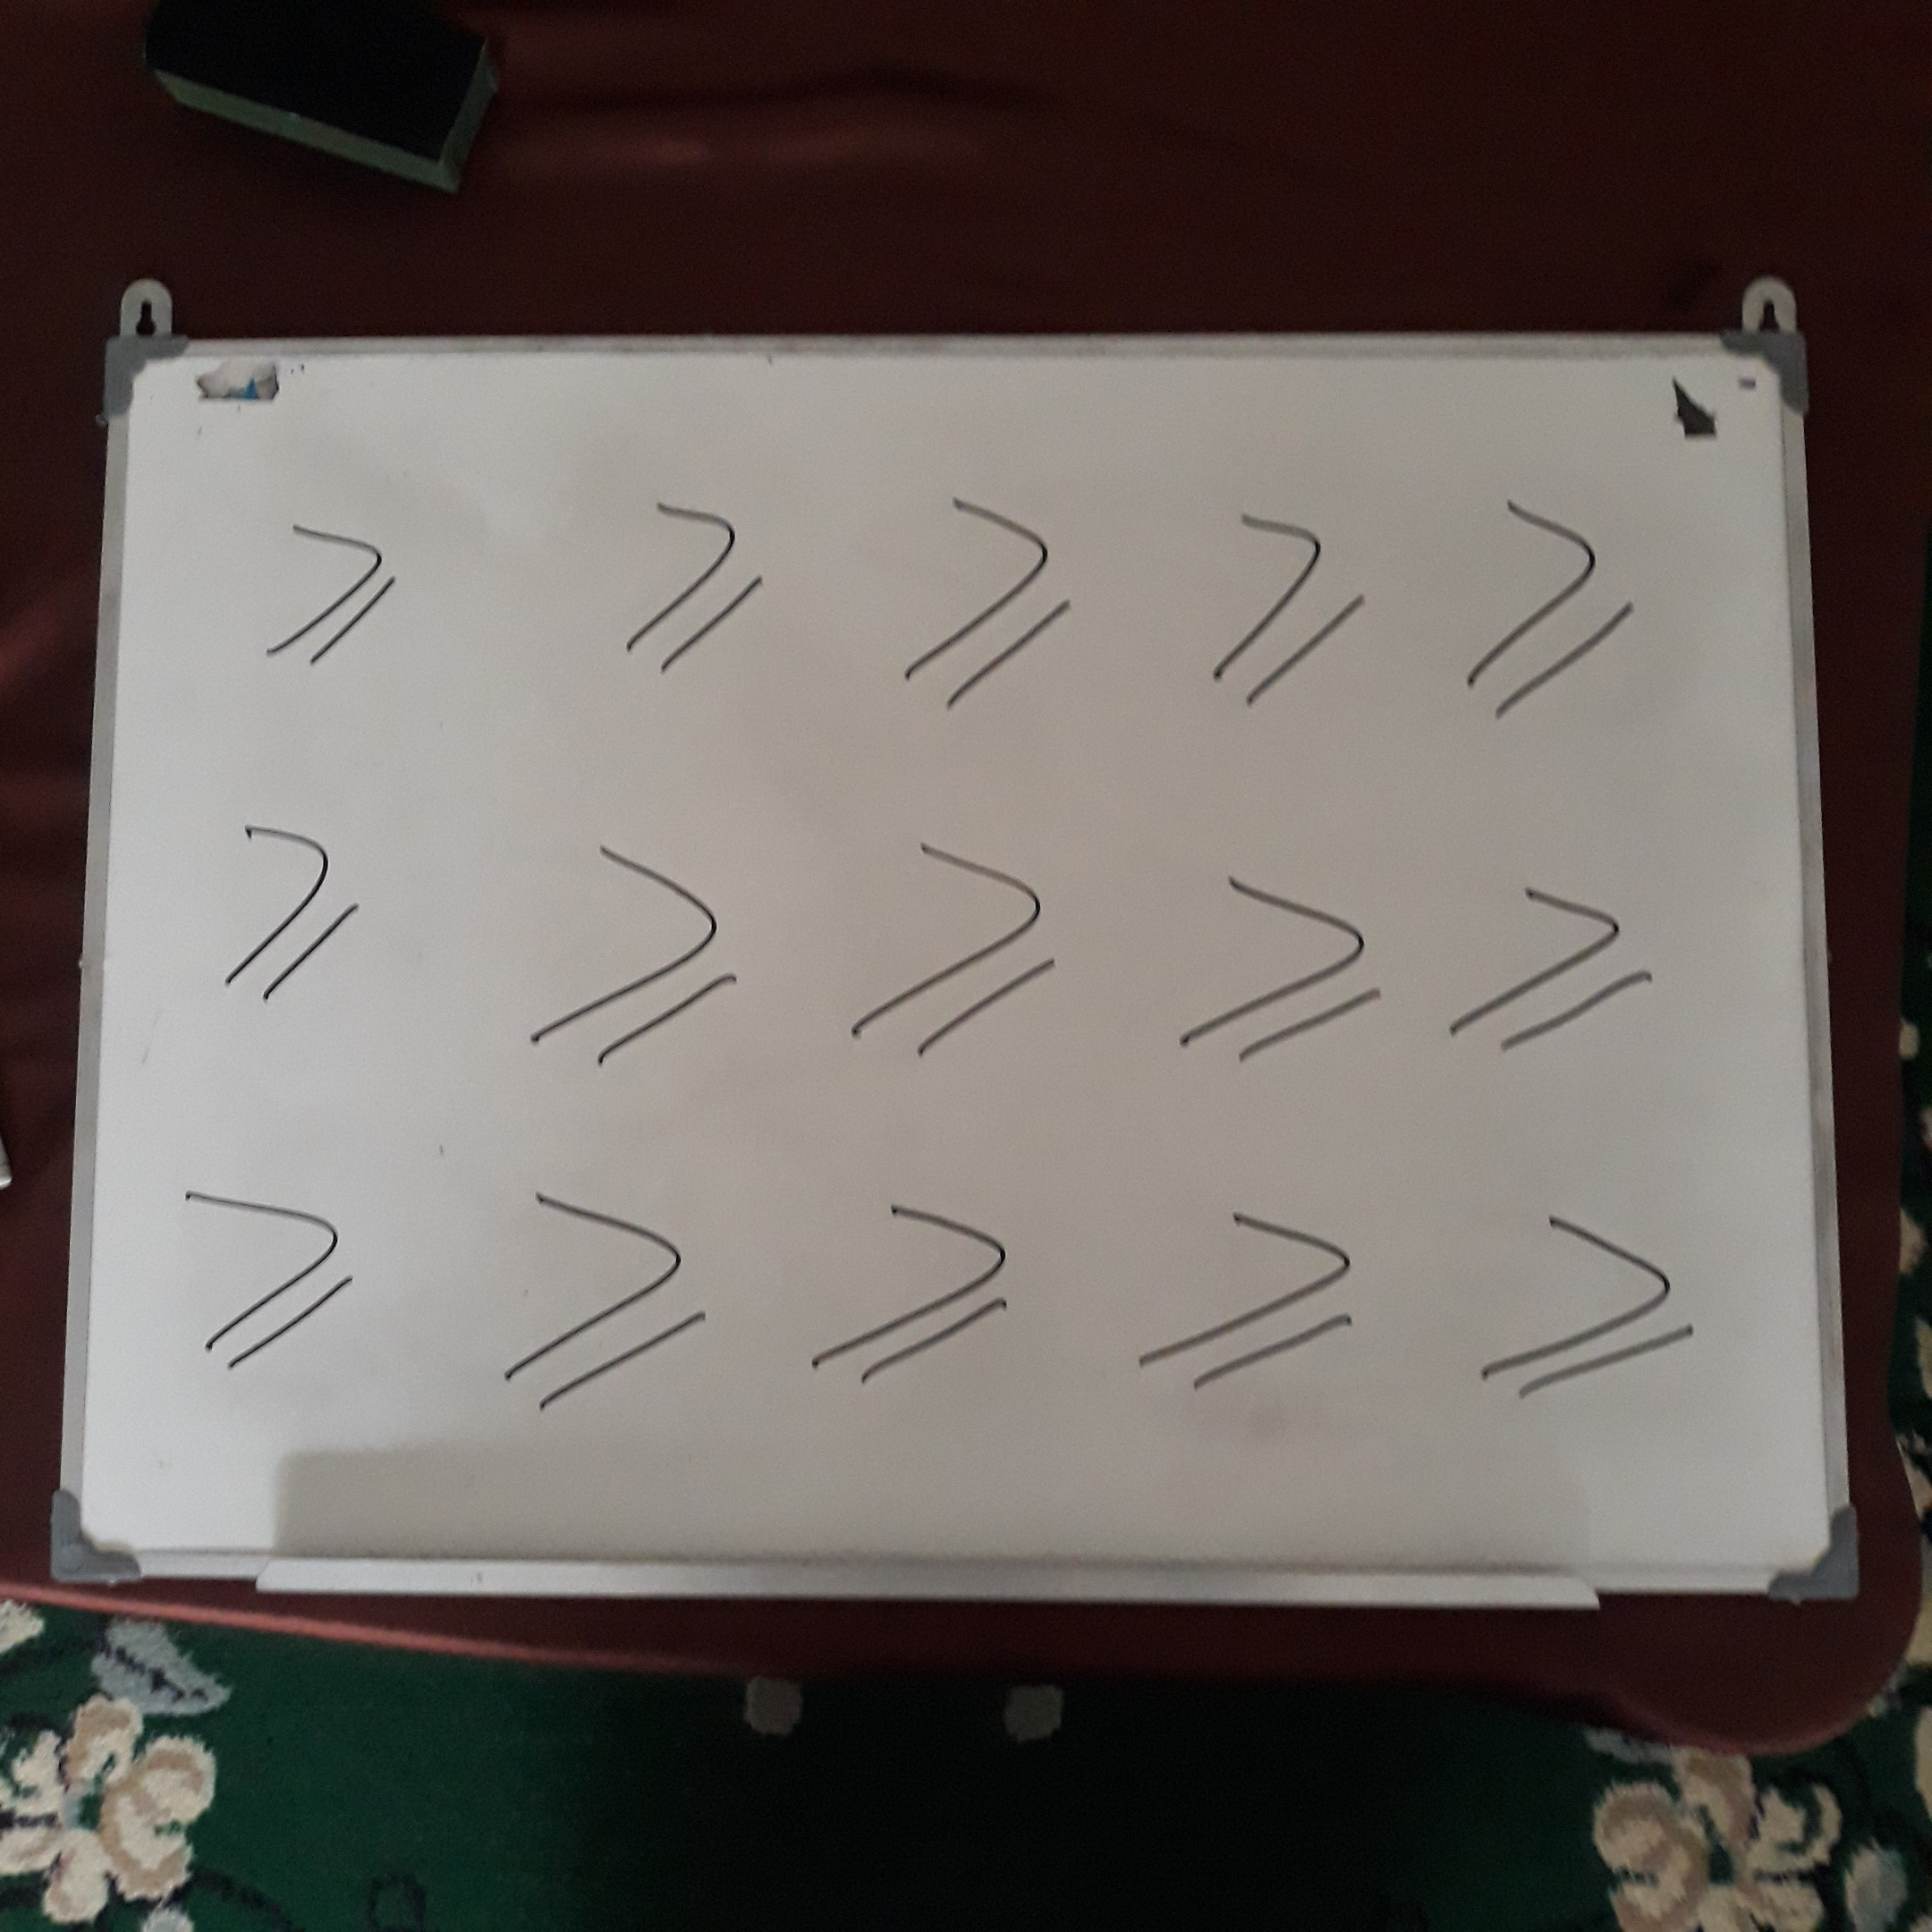morethan-equal: (1126, 1174, 1374, 1429), (505, 825, 753, 1080), (822, 823, 1070, 1078), (1154, 835, 1402, 1090), (1426, 849, 1674, 1104), (144, 1143, 392, 1398), (479, 1165, 727, 1420), (478, 1164, 725, 1419), (796, 1164, 1044, 1419), (1461, 1175, 1708, 1430), (885, 479, 1079, 726), (1186, 483, 1379, 730), (1453, 479, 1646, 726), (202, 789, 395, 1036), (605, 478, 778, 688), (258, 504, 416, 687)
